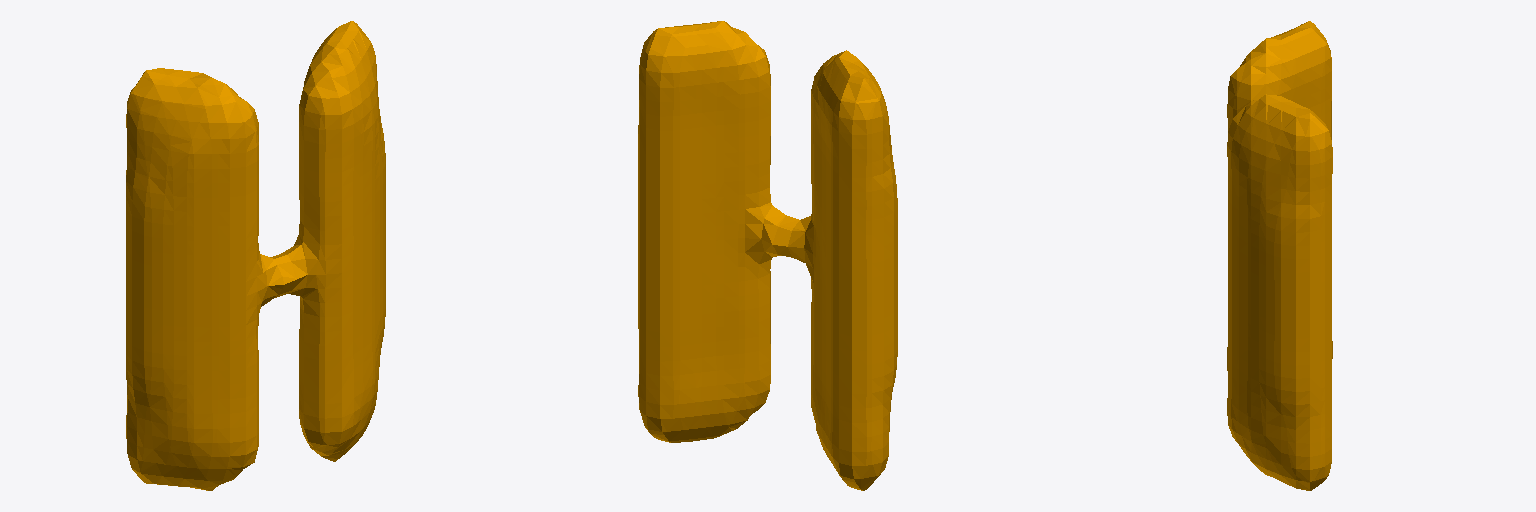
The robot description file, URDF, robot "object":
<?xml version="1.0"?>
        <robot name="object">
          <link name="object">
            <visual>
              <origin xyz="0.0 0.0 0.0"/>
              <geometry>
                <mesh filename="G2.stl" scale="1.00 1.00 1.00"/>
              </geometry>
            </visual>
            <collision>
              <origin xyz="0.0 0.0 0.0"/>
              <geometry>
                <mesh filename="G2.stl" scale="1.00 1.00 1.00"/>
              </geometry>
            </collision>
          </link>
        </robot>

--- What the picture shows (computed from the rendered views, not written in the file) ---
The picture shows the robot from 3 angles, left to right: view 1: azimuth 30°, elevation 25°; view 2: azimuth 150°, elevation 25°; view 3: azimuth 270°, elevation 25°; orthographic projection.
Model object with 1 links and 0 joints (none), rooted at object, posed every joint at zero.
Visible links, largest first — view 1: object; view 2: object; view 3: object.
Link boxes in pixels (<box>): object: <box>126,21,385,490</box>; object: <box>638,21,897,490</box>; object: <box>1227,21,1332,490</box>.
Bounding box of the posed robot: 0.0631 × 0.0251 × 0.1 m (x, y, z).
Meshes: 1 distinct files referenced, 1 mesh visuals loaded (1 binary STL).